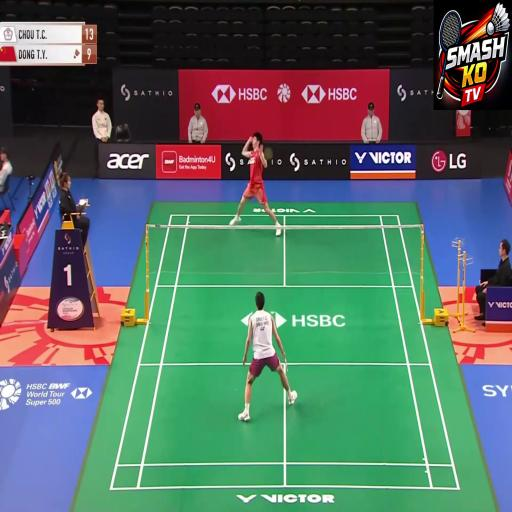player: (232, 286, 290, 450), (231, 127, 282, 249)
